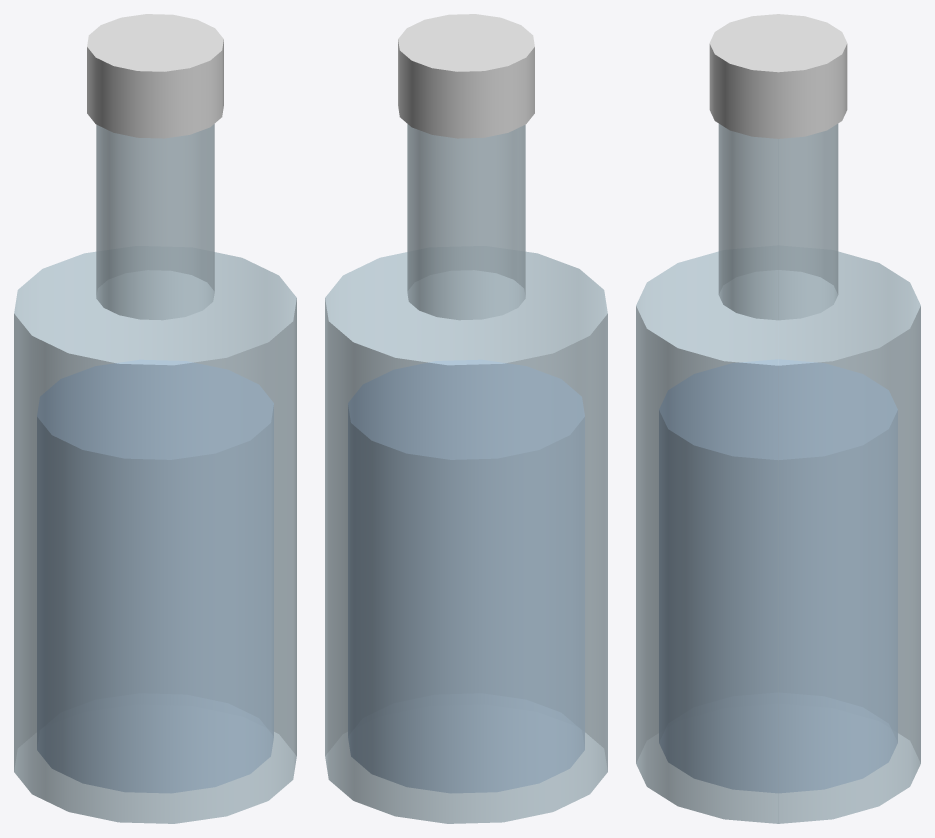
The model's file is WaterBottle.obj.
3 renders of one model, left to right at view 1: azimuth 30°, elevation 25°; view 2: azimuth 150°, elevation 25°; view 3: azimuth 270°, elevation 25°, orthographic.
Visible parts, largest first — view 1: Body, Liquid, Neck, Cap; view 2: Body, Liquid, Neck, Cap; view 3: Body, Liquid, Neck, Cap.
Boxes of the visible parts, bbox=[...] form: Body: bbox=[14, 251, 296, 823]; Liquid: bbox=[37, 360, 273, 792]; Neck: bbox=[96, 124, 214, 320]; Cap: bbox=[87, 14, 223, 138]; Body: bbox=[325, 251, 607, 823]; Liquid: bbox=[348, 360, 584, 792]; Neck: bbox=[407, 124, 525, 320]; Cap: bbox=[398, 14, 534, 138]; Body: bbox=[636, 251, 920, 823]; Liquid: bbox=[659, 359, 897, 792]; Neck: bbox=[718, 123, 838, 320]; Cap: bbox=[709, 14, 847, 138].
Size of the model in its own units: 0.62 by 1.73 by 0.62.
